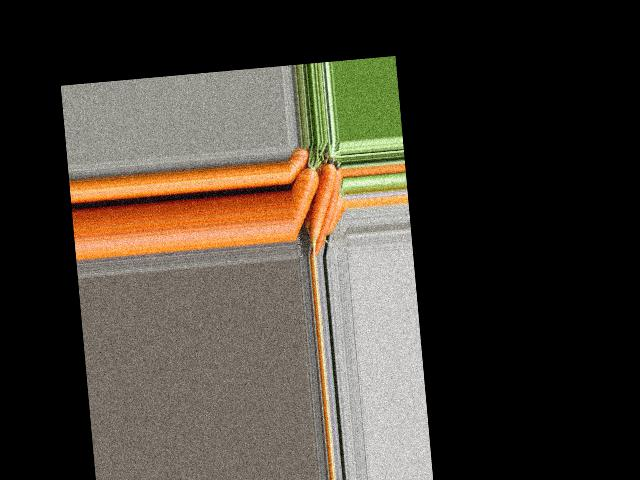carrot: (288, 162, 312, 191)
